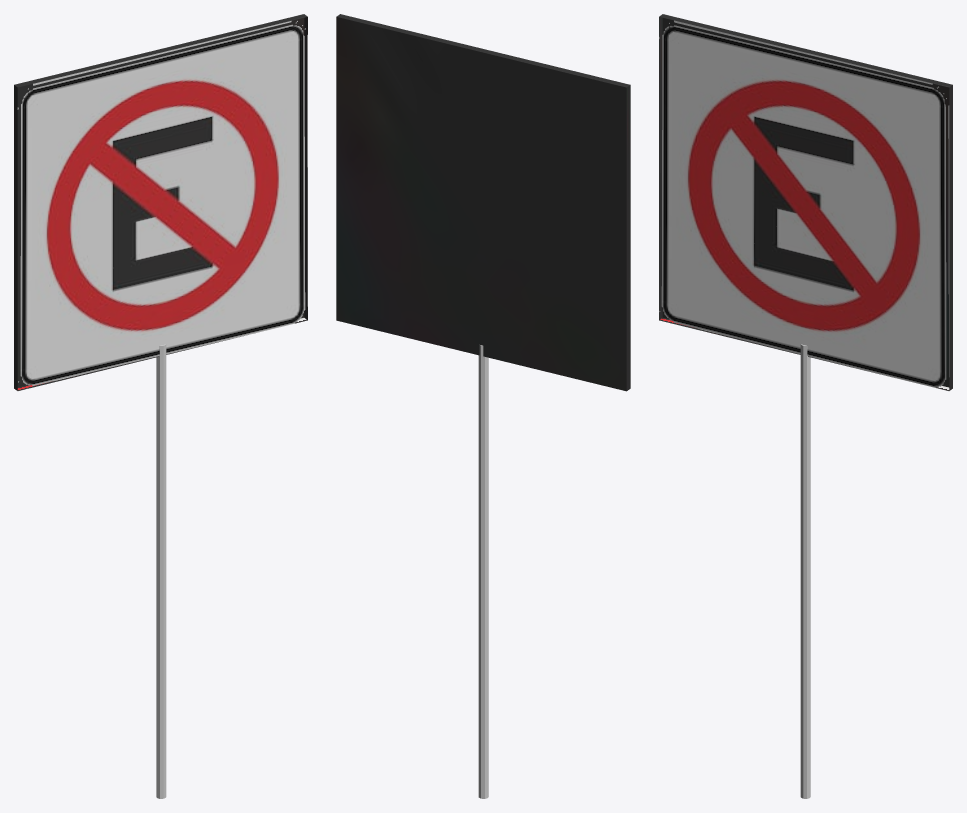
Rendered from letrero de no estacionarse.fbx.
3 views of the same model, side by side, from view 1: azimuth 30°, elevation 25°; view 2: azimuth 150°, elevation 25°; view 3: azimuth 330°, elevation 25° (orthographic).
Parts seen in each view (by area): view 1: Cube, Cilindro; view 2: Cube, Cilindro; view 3: Cube, Cilindro.
Part boxes in pixels (x1=…): Cube: x1=14, y1=14, x2=307, y2=390; Cilindro: x1=156, y1=344, x2=166, y2=798; Cube: x1=336, y1=14, x2=630, y2=391; Cilindro: x1=478, y1=345, x2=488, y2=798; Cube: x1=659, y1=14, x2=952, y2=390; Cilindro: x1=800, y1=344, x2=810, y2=798.
Size of the model in its own units: 200 by 491 by 6.12.
1 material, 1 textured.
